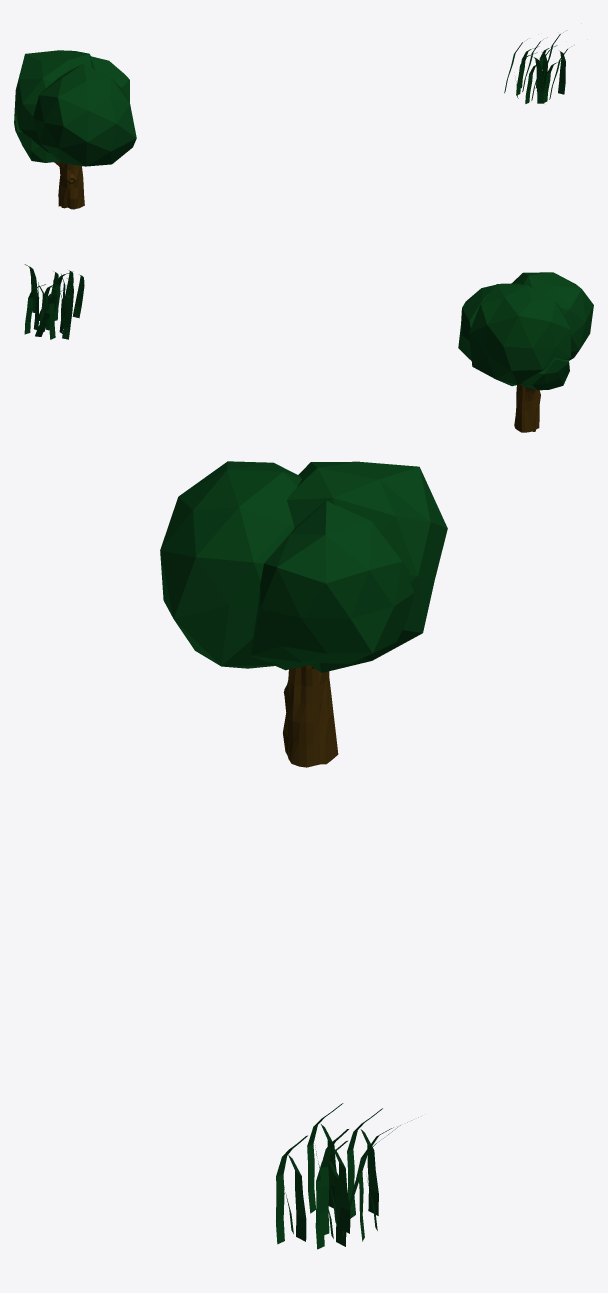
File: grass.fbx
3 renders of one model, top to bottom at view 1: azimuth 30°, elevation 25°; view 2: azimuth 150°, elevation 25°; view 3: azimuth 270°, elevation 25°, orthographic. The views are drawn at different scales.
Parts seen in each view (by area): view 1: normal, grass; view 2: normal, grass; view 3: normal, grass.
Boxes of the visible parts, box(x1,y1,x2,y2) form: normal: box(14, 50, 136, 209); grass: box(504, 30, 571, 103); normal: box(458, 272, 593, 432); grass: box(24, 264, 84, 339); normal: box(160, 461, 447, 767); grass: box(276, 1103, 418, 1249).
Size of the model in its own units: 987 by 282 by 219.
